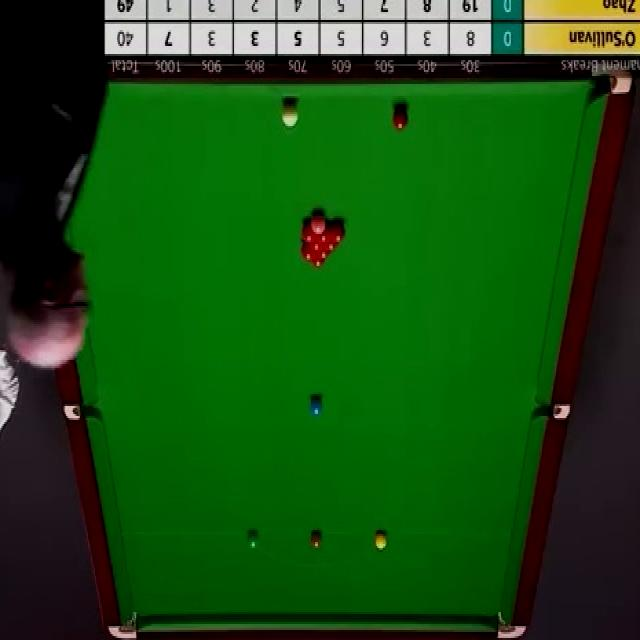blue-ball: (308, 393, 324, 418)
brown-ball: (309, 529, 323, 549)
green-ball: (244, 528, 258, 550)
pink-ball: (309, 212, 326, 235)
red-ball: (392, 107, 410, 131), (330, 220, 346, 243), (316, 220, 330, 243), (301, 220, 315, 242), (301, 241, 314, 261), (315, 250, 332, 262), (322, 242, 339, 253), (308, 240, 323, 252), (310, 259, 325, 269)
white-ball: (281, 98, 299, 128)
yellow-ball: (374, 530, 388, 550)
